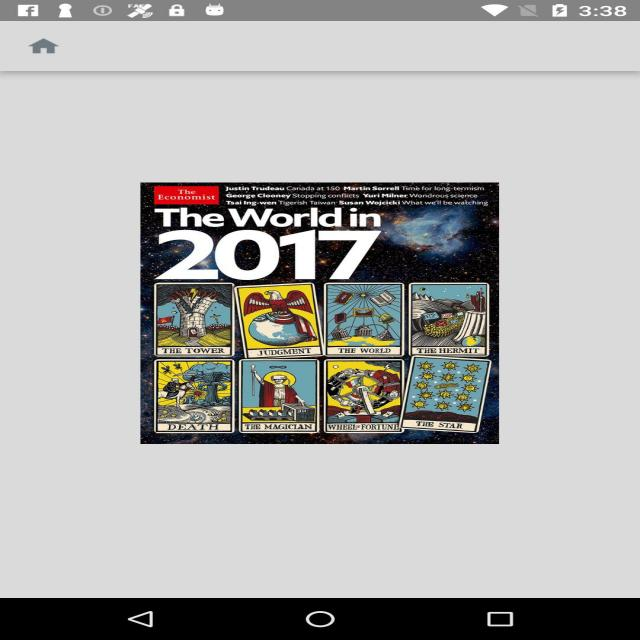button: (3, 29, 94, 80)
image: (148, 182, 490, 439)
